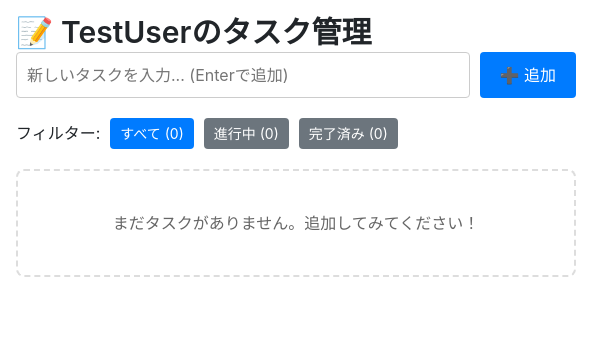
Test: Task Deletion Integration Tests (US1) › 個別削除の受入シナリオ › AS-004: 完了状態のタスクも削除できる
The image size is (593, 356).
Type "完了後削除タスク" into the field with placeholder "新しいタスクを入力... (Enterで追加)" at (243, 74), box [16,52,470,98]
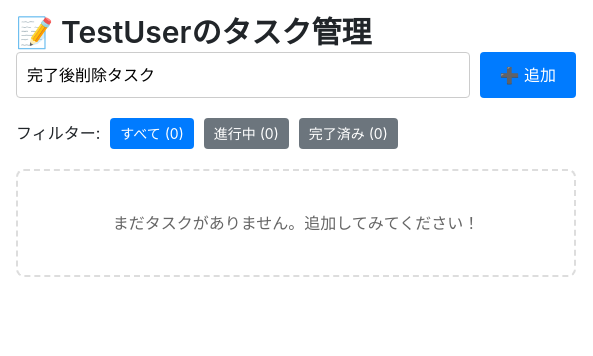
Click the button "➕ 追加" at (528, 74), box [480,52,576,98]
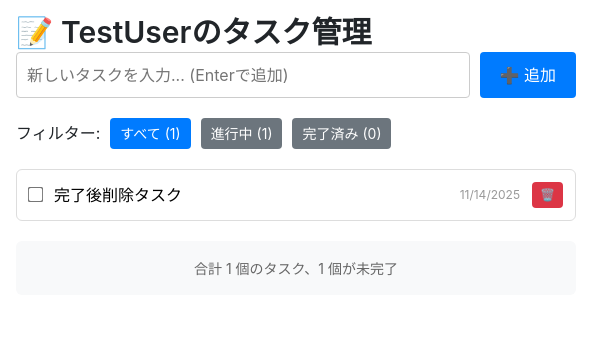
Check: the text "完了後削除タスク" is shown, box [54,184,182,204]
Note:  完了状態にする
Click the checkbox at (36, 194), box [28,187,43,202]
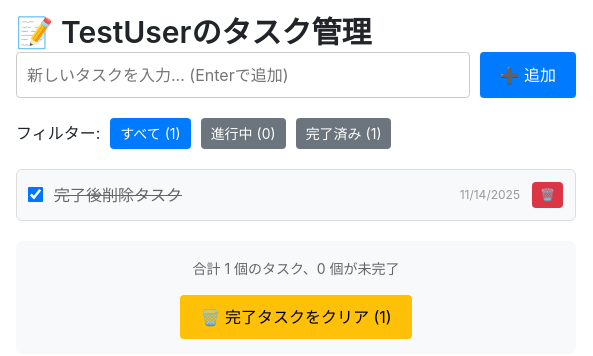
Check: the checkbox is checked, box [28,187,43,202]
Note: 最初のボタンは個別削除ボタン（タスクアイテム内）
Click the button "🗑️" at (548, 194), box [532,182,563,208]
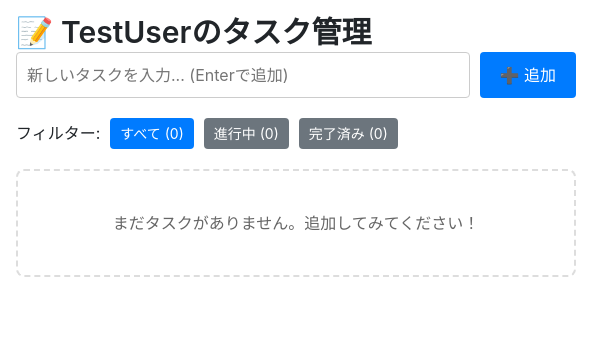
Check: the text "完了後削除タスク" is gone
